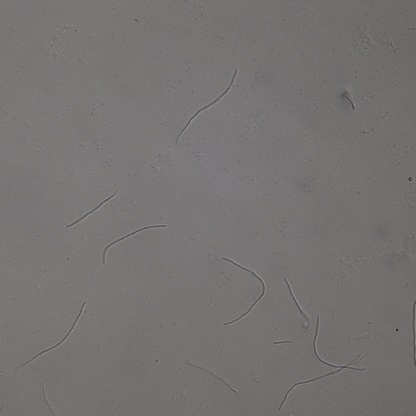Sensitive: (280, 314, 366, 409), (177, 67, 239, 145), (16, 303, 85, 368), (221, 255, 266, 328), (271, 274, 310, 346), (103, 223, 168, 263), (189, 360, 239, 396), (67, 192, 118, 227)
